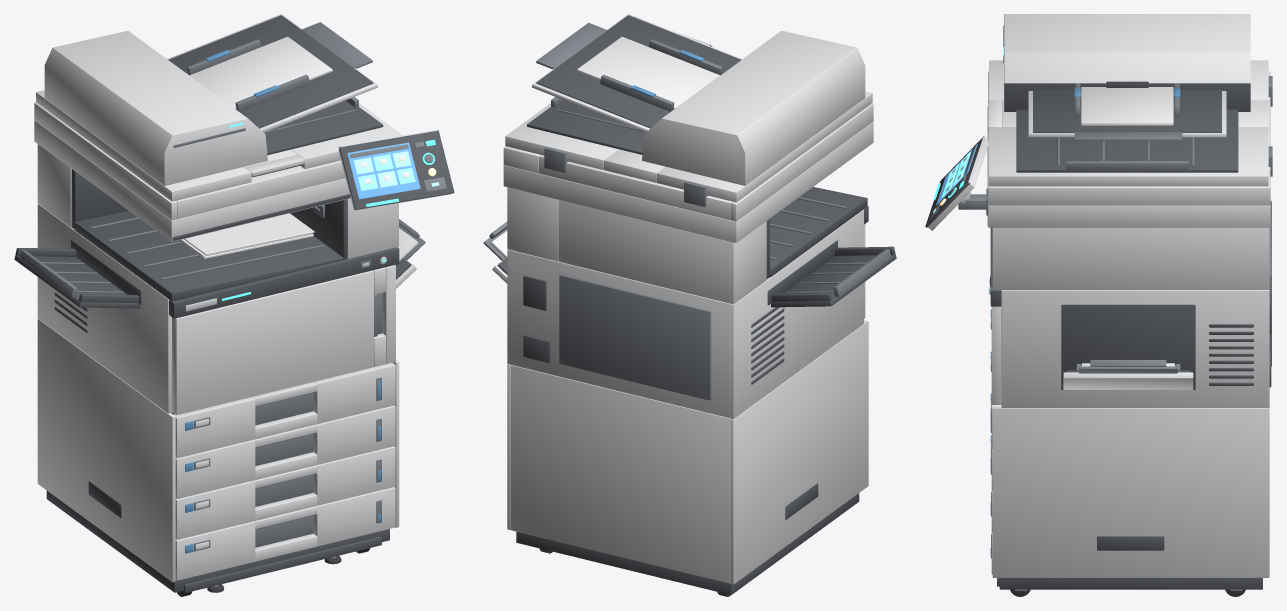
Rendered from office_copier.glb.
3 renders of one model, left to right at view 1: azimuth 30°, elevation 25°; view 2: azimuth 150°, elevation 25°; view 3: azimuth 270°, elevation 25°, orthographic. The views are drawn at different scales.
Parts seen in each view (by area): view 1: MFP_ADF_Top_Assembly, MFP_Front_Toner_Door, MFP_Pedestal_Cabinet, MFP_Central_Output_Cavity, MFP_Scanner_Deck, MFP_Printer_Engine_Body, MFP_Paper_Cassette_1, MFP_Paper_Cassette_3, MFP_Paper_Cassette_4, MFP_Paper_Cassette_2, MFP_Control_Panel_Console, MFP_Base_Frame_And_Casters (+3 smaller); view 2: MFP_Pedestal_Cabinet, MFP_ADF_Top_Assembly, MFP_Printer_Engine_Body, MFP_Central_Output_Cavity, MFP_Scanner_Deck, MFP_Left_Output_Catch_Tray, MFP_Base_Frame_And_Casters, MFP_Right_Bypass_Tray; view 3: MFP_Pedestal_Cabinet, MFP_ADF_Top_Assembly, MFP_Printer_Engine_Body, MFP_Central_Output_Cavity, MFP_Scanner_Deck, MFP_Right_Bypass_Tray, MFP_Base_Frame_And_Casters, MFP_Control_Panel_Console, MFP_Front_Toner_Door.
Part boxes in pixels (left/top/right/bottom): MFP_ADF_Top_Assembly: left=36, top=14, right=402, bottom=201; MFP_Front_Toner_Door: left=169, top=247, right=399, bottom=414; MFP_Pedestal_Cabinet: left=37, top=318, right=399, bottom=582; MFP_Central_Output_Cavity: left=37, top=144, right=398, bottom=301; MFP_Scanner_Deck: left=34, top=102, right=350, bottom=241; MFP_Printer_Engine_Body: left=37, top=204, right=172, bottom=413; MFP_Paper_Cassette_1: left=173, top=362, right=395, bottom=458; MFP_Paper_Cassette_3: left=175, top=446, right=395, bottom=539; MFP_Paper_Cassette_4: left=175, top=487, right=395, bottom=580; MFP_Paper_Cassette_2: left=175, top=405, right=395, bottom=498; MFP_Control_Panel_Console: left=338, top=129, right=454, bottom=210; MFP_Base_Frame_And_Casters: left=46, top=490, right=389, bottom=596; MFP_Pedestal_Cabinet: left=507, top=320, right=868, bottom=584; MFP_ADF_Top_Assembly: left=505, top=14, right=872, bottom=206; MFP_Printer_Engine_Body: left=507, top=209, right=863, bottom=418; MFP_Central_Output_Cavity: left=507, top=187, right=867, bottom=304; MFP_Scanner_Deck: left=503, top=103, right=873, bottom=242; MFP_Left_Output_Catch_Tray: left=771, top=246, right=896, bottom=307; MFP_Base_Frame_And_Casters: left=516, top=493, right=859, bottom=596; MFP_Right_Bypass_Tray: left=483, top=221, right=507, bottom=283; MFP_Pedestal_Cabinet: left=992, top=407, right=1269, bottom=577; MFP_ADF_Top_Assembly: left=988, top=14, right=1272, bottom=186; MFP_Printer_Engine_Body: left=1001, top=201, right=1271, bottom=407; MFP_Central_Output_Cavity: left=992, top=227, right=1269, bottom=289; MFP_Scanner_Deck: left=987, top=71, right=1270, bottom=227; MFP_Right_Bypass_Tray: left=1063, top=360, right=1193, bottom=389; MFP_Base_Frame_And_Casters: left=997, top=578, right=1262, bottom=596; MFP_Control_Panel_Console: left=925, top=136, right=989, bottom=230; MFP_Front_Toner_Door: left=988, top=227, right=1001, bottom=404.
Bounding box in the file's own units: 0.9449 × 1.19 × 0.775.
